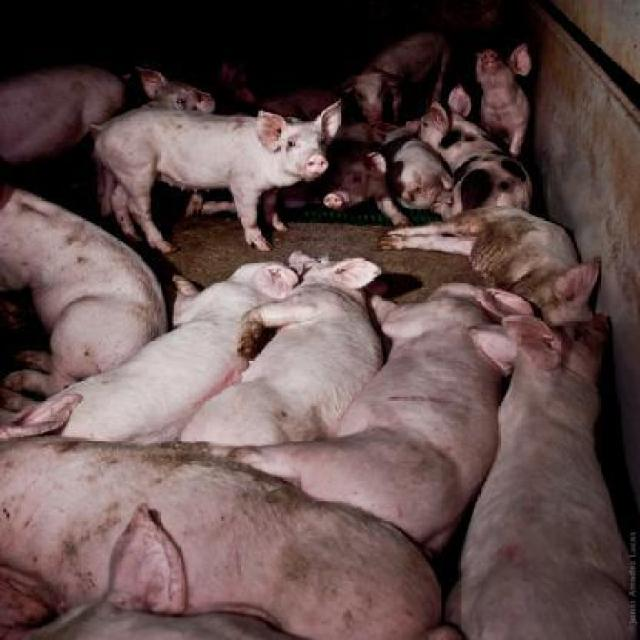Boar: (0, 27, 635, 638)
